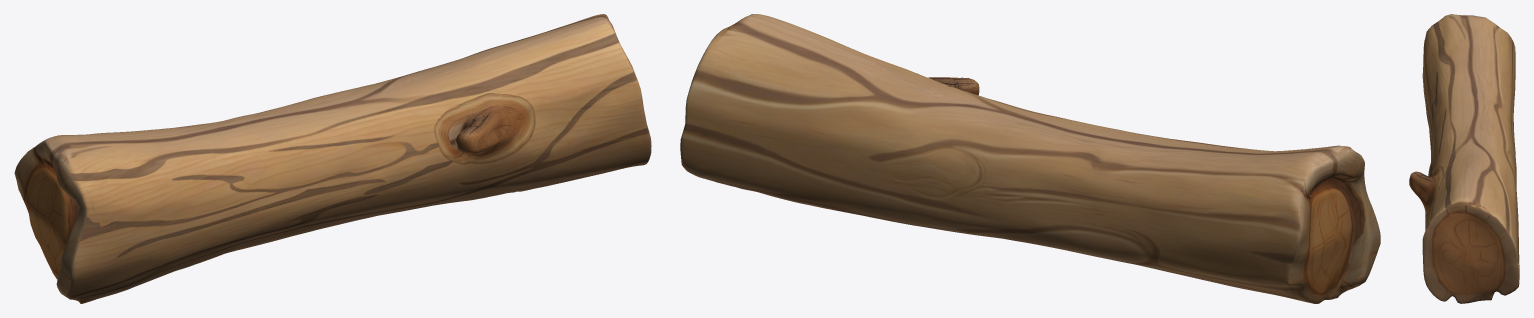
The model's file is Log_Illustration_0508051253_texture.fbx.
The picture shows the model from 3 angles, left to right: view 1: azimuth 30°, elevation 25°; view 2: azimuth 150°, elevation 25°; view 3: azimuth 270°, elevation 25°; orthographic projection. The views are drawn at different scales.
Parts seen in each view (by area): view 1: input; view 2: input; view 3: input.
Boxes of the visible parts, x1=… form: input: x1=14, y1=14, x2=651, y2=303; input: x1=680, y1=14, x2=1380, y2=303; input: x1=1409, y1=14, x2=1519, y2=303.
Size of the model in its own units: 200 by 49.02 by 47.69.
Materials: 1 (1 with a texture image).
